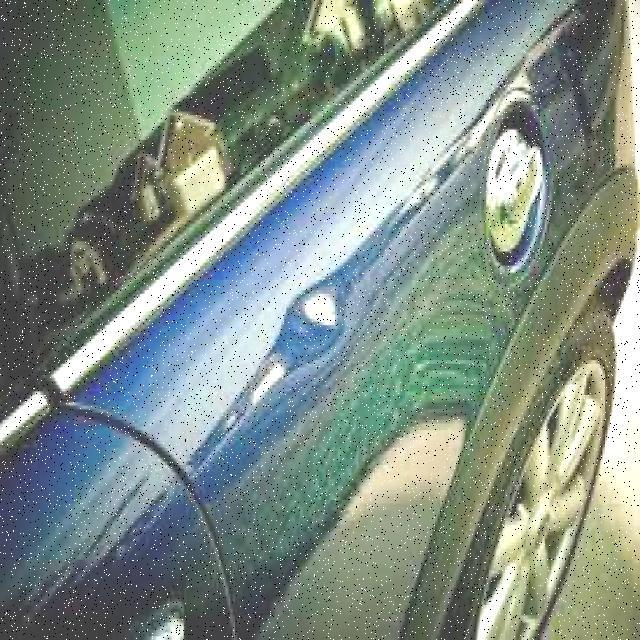car damage: (235, 263, 358, 414)
